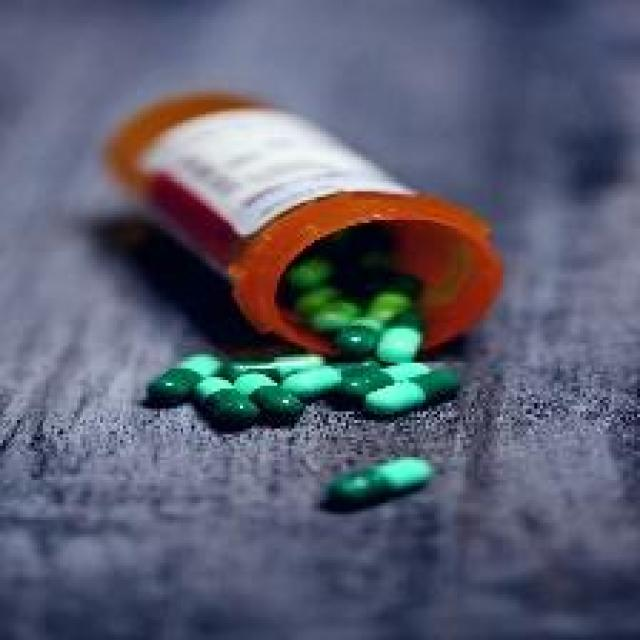Medicine: (109, 68, 517, 534)
